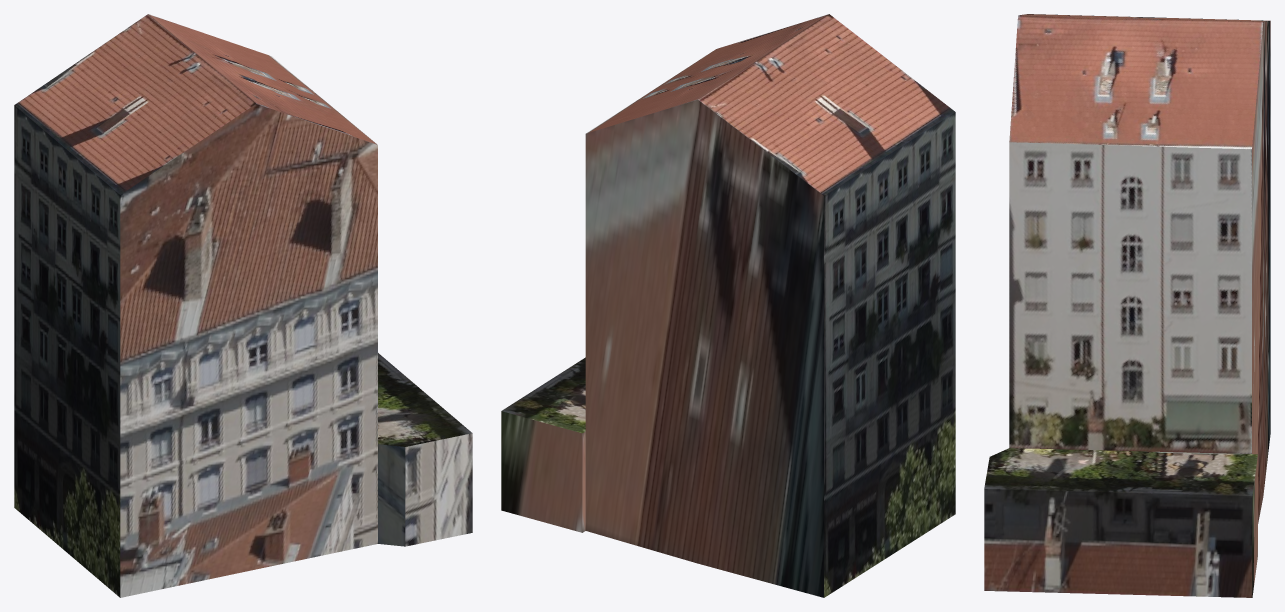
The picture shows the model from 3 angles, left to right: view 1: azimuth 30°, elevation 25°; view 2: azimuth 150°, elevation 25°; view 3: azimuth 270°, elevation 25°; orthographic projection. The views are drawn at different scales.
Parts seen in each view (by area): view 1: Z_UP; view 2: Z_UP; view 3: Z_UP.
Boxes of the visible parts, left/top/right/bottom form: Z_UP: left=14, top=14, right=472, bottom=597; Z_UP: left=501, top=14, right=955, bottom=597; Z_UP: left=984, top=14, right=1270, bottom=597.
Bounding box in the file's own units: 22.2 × 28.61 × 15.62.
Materials: 2 (1 with a texture image).
